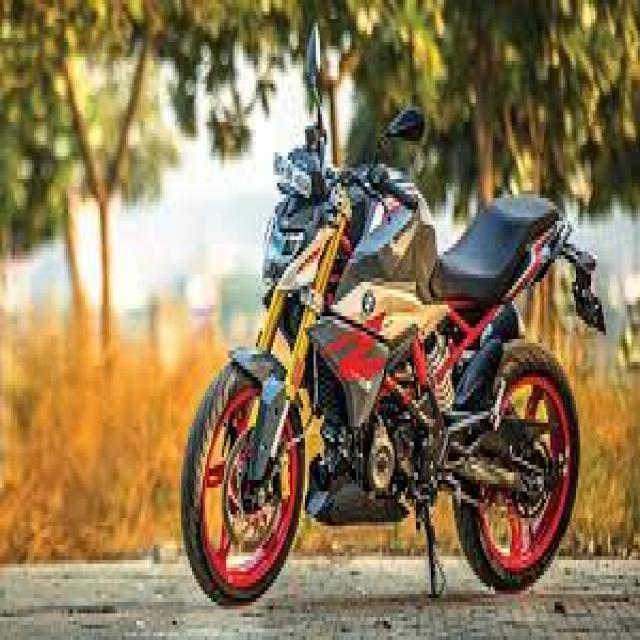Bike: (169, 105, 600, 614)
